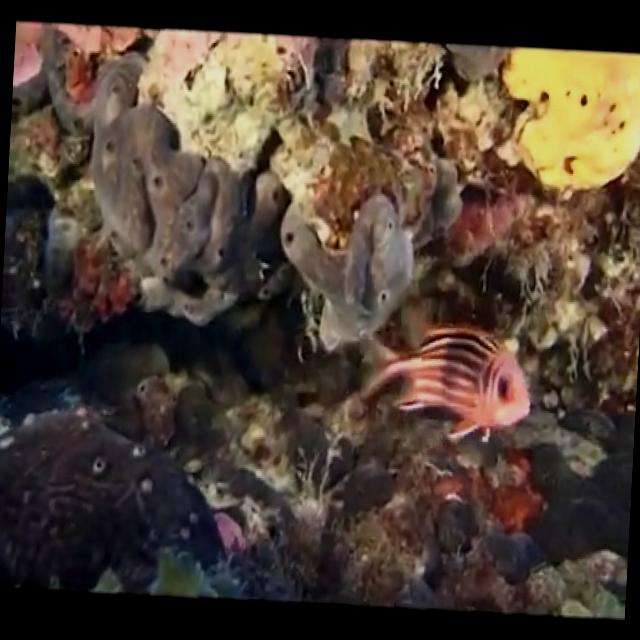Asker Baligi: (356, 317, 538, 448)
